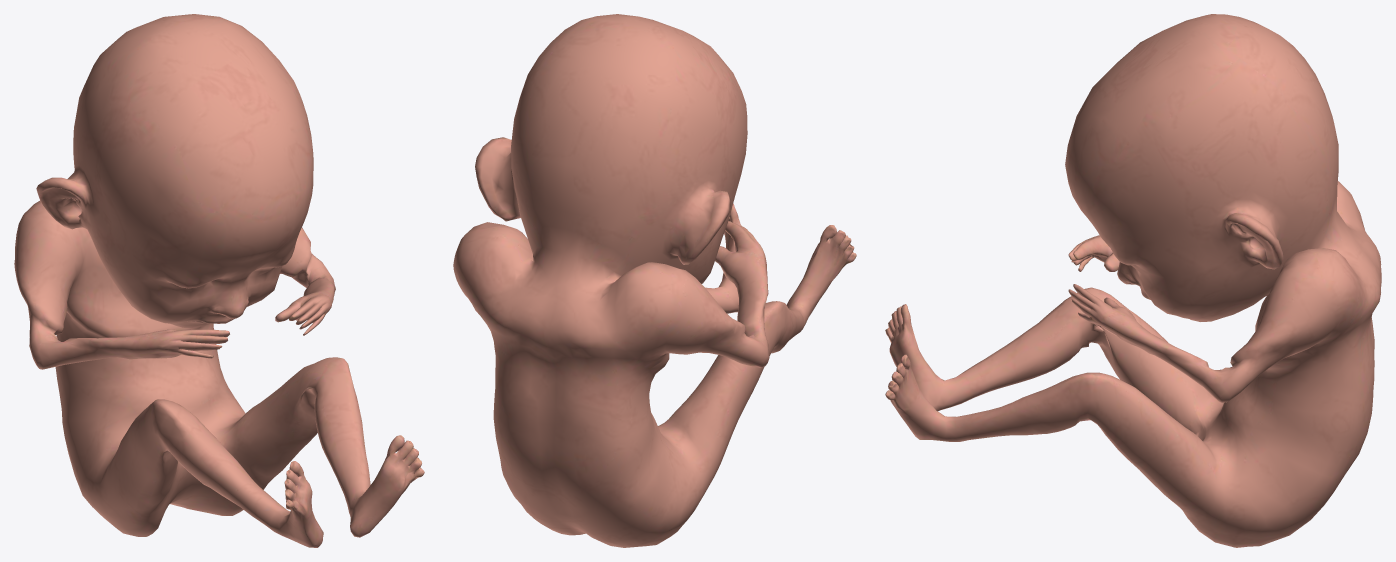
File: pb-w19.359bdab1.glb
The picture shows the model from 3 angles, left to right: view 1: azimuth 30°, elevation 25°; view 2: azimuth 150°, elevation 25°; view 3: azimuth 270°, elevation 25°; orthographic projection.
Parts seen in each view (by area): view 1: Baby; view 2: Baby; view 3: Baby.
Part boxes in pixels (x1,y1,x2,y2): Baby: (14, 14, 424, 547); Baby: (453, 14, 856, 547); Baby: (885, 14, 1381, 547).
Bounding box in the file's own units: 0.1028 × 0.1663 × 0.1494.
1 material, 1 textured.
